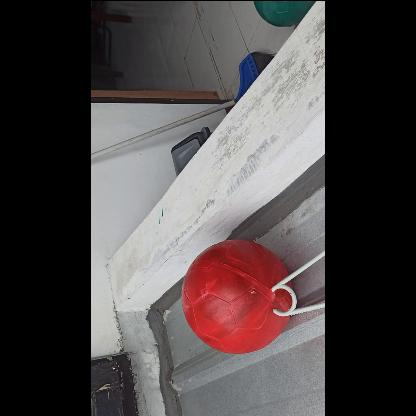red_ball: (181, 240, 293, 352)
